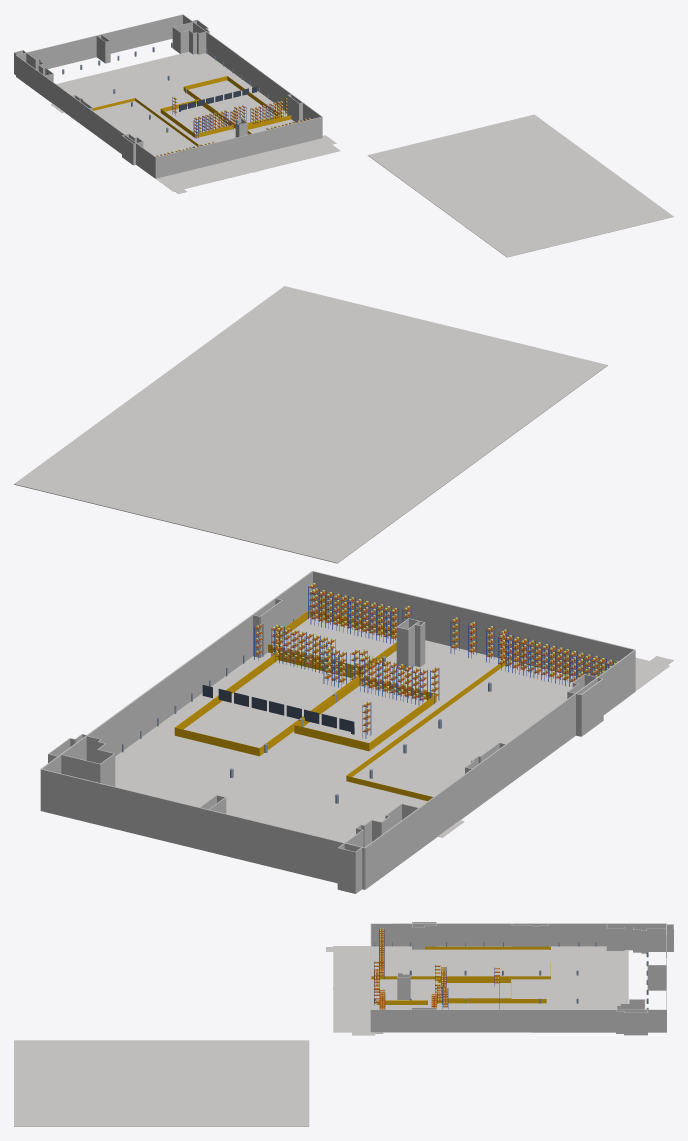
Rendered from model_a3bac9243328.glb.
3 renders of one model, top to bottom at view 1: azimuth 30°, elevation 25°; view 2: azimuth 150°, elevation 25°; view 3: azimuth 270°, elevation 25°, orthographic. The views are drawn at different scales.
Visible parts, largest first — view 1: slab_slab_uja7mvrhetnqnk33, slab_slab_q25cp5kucvzisrko, wall_wall_zbi6sn5ii5k42go4, wall_wall_81go7x7270fo3zrs, wall_wall_oibojujk9mb94eto, wall_wall_pkae28rtsal4z948, wall_wall_slofg03amu2nohm8, wall_wall_pbxotrh2thpj2hi5; view 2: slab_slab_uja7mvrhetnqnk33, slab_slab_q25cp5kucvzisrko, wall_wall_zbi6sn5ii5k42go4, wall_wall_81go7x7270fo3zrs, wall_wall_oibojujk9mb94eto, wall_wall_pkae28rtsal4z948, wall_wall_slofg03amu2nohm8, wall_wall_pbxotrh2thpj2hi5, wall_wall_mphqoblrm6lfmhhc, wall_wall_9n0bgrklbijb2lbm, wall_wall_u5l0bxs83pqcqnee, fence_fence_uwjv8xmpecemd8g6 (+2 smaller); view 3: slab_slab_uja7mvrhetnqnk33, slab_slab_q25cp5kucvzisrko, wall_wall_pkae28rtsal4z948, wall_wall_slofg03amu2nohm8, wall_wall_pbxotrh2thpj2hi5, wall_wall_u5l0bxs83pqcqnee, wall_wall_9n0bgrklbijb2lbm, wall_wall_6c4weso3u929qjhh, wall_wall_rkap9pszb0irm5ft, fence_fence_uwjv8xmpecemd8g6, fence_fence_lifdysbfzyrhtdpv, fence_fence_3w6qzlfm2dscdrt0 (+9 smaller).
Part boxes in pixels (left/top/right/bottom): slab_slab_uja7mvrhetnqnk33: left=367, top=114, right=673, bottom=257; slab_slab_q25cp5kucvzisrko: left=56, top=52, right=340, bottom=191; wall_wall_zbi6sn5ii5k42go4: left=156, top=116, right=322, bottom=178; wall_wall_81go7x7270fo3zrs: left=101, top=14, right=182, bottom=53; wall_wall_oibojujk9mb94eto: left=27, top=34, right=101, bottom=68; wall_wall_pkae28rtsal4z948: left=233, top=52, right=291, bottom=110; wall_wall_slofg03amu2nohm8: left=71, top=96, right=124, bottom=153; wall_wall_pbxotrh2thpj2hi5: left=44, top=76, right=71, bottom=117; slab_slab_uja7mvrhetnqnk33: left=14, top=286, right=607, bottom=563; slab_slab_q25cp5kucvzisrko: left=115, top=621, right=668, bottom=842; wall_wall_zbi6sn5ii5k42go4: left=312, top=571, right=635, bottom=677; wall_wall_81go7x7270fo3zrs: left=40, top=769, right=199, bottom=849; wall_wall_oibojujk9mb94eto: left=199, top=807, right=344, bottom=883; wall_wall_pkae28rtsal4z948: left=139, top=614, right=252, bottom=736; wall_wall_slofg03amu2nohm8: left=472, top=693, right=575, bottom=810; wall_wall_pbxotrh2thpj2hi5: left=419, top=769, right=473, bottom=849; wall_wall_mphqoblrm6lfmhhc: left=364, top=825, right=395, bottom=889; wall_wall_9n0bgrklbijb2lbm: left=103, top=703, right=132, bottom=756; wall_wall_u5l0bxs83pqcqnee: left=275, top=571, right=312, bottom=628; fence_fence_uwjv8xmpecemd8g6: left=346, top=659, right=510, bottom=776; slab_slab_uja7mvrhetnqnk33: left=14, top=1040, right=309, bottom=1126; slab_slab_q25cp5kucvzisrko: left=333, top=946, right=628, bottom=1032; wall_wall_pkae28rtsal4z948: left=436, top=1009, right=558, bottom=1032; wall_wall_slofg03amu2nohm8: left=436, top=923, right=548, bottom=946; wall_wall_pbxotrh2thpj2hi5: left=549, top=923, right=606, bottom=946; wall_wall_u5l0bxs83pqcqnee: left=371, top=1009, right=411, bottom=1032; wall_wall_9n0bgrklbijb2lbm: left=568, top=1009, right=598, bottom=1032; wall_wall_6c4weso3u929qjhh: left=412, top=1009, right=436, bottom=1032; wall_wall_rkap9pszb0irm5ft: left=624, top=1012, right=647, bottom=1035; fence_fence_uwjv8xmpecemd8g6: left=371, top=976, right=550, bottom=979; fence_fence_lifdysbfzyrhtdpv: left=434, top=999, right=546, bottom=1003; fence_fence_3w6qzlfm2dscdrt0: left=425, top=946, right=550, bottom=949.
Size of the model in its own units: 215 by 12.5 by 329.
